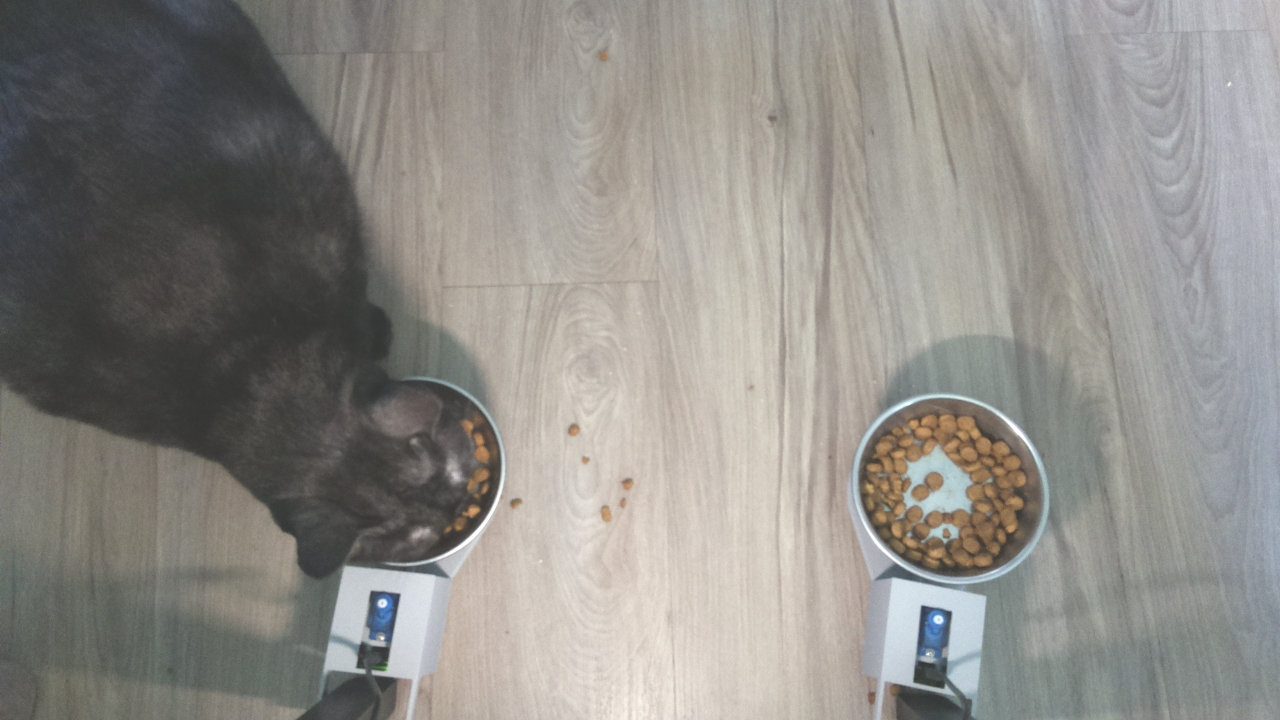open_bowl: (851, 392, 1050, 587)
saki_eating: (240, 325, 522, 592)
